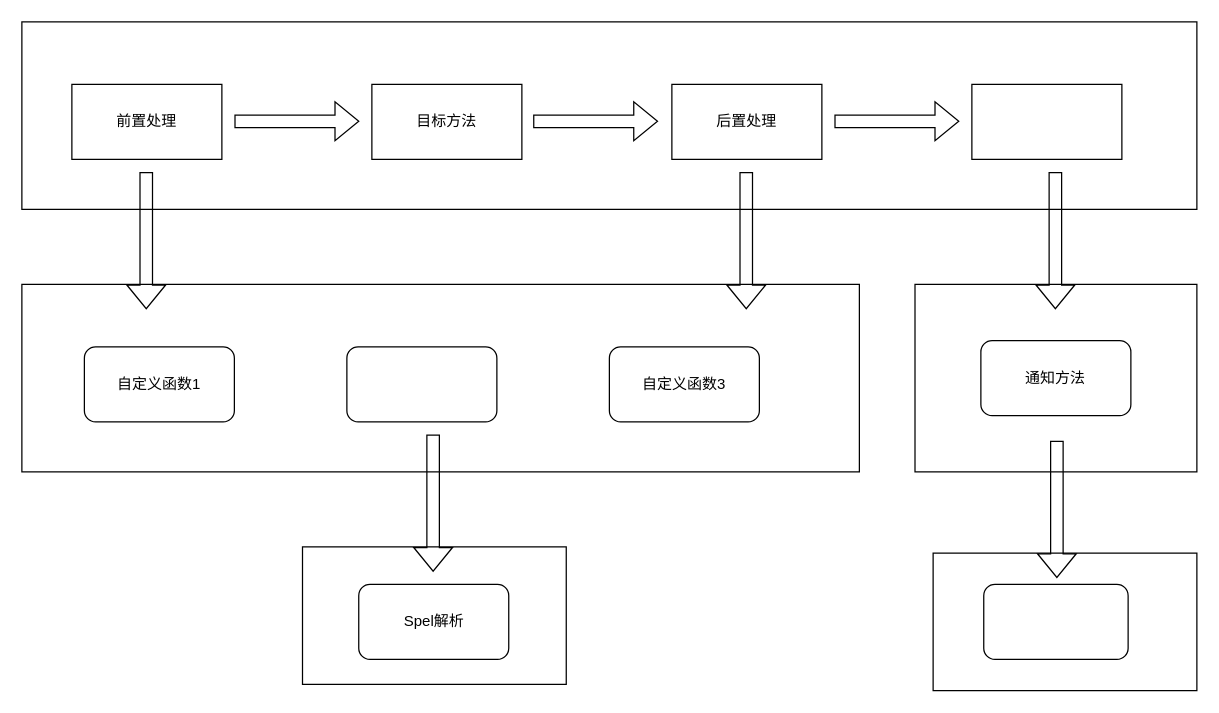
Some shapes in this 1219 by 713 pixel diagram are drawn without their labels. Here are the shapes that lost their labels. From the top down, the box of each, then its label:
(971, 83, 1122, 159): 消息通知
(346, 346, 497, 422): 自定义函数2
(982, 583, 1128, 659): ES
